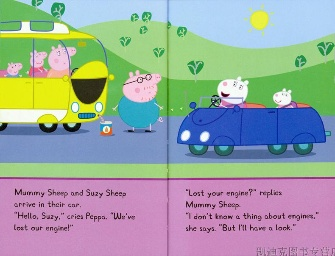Peppa: (26, 49, 46, 77)
